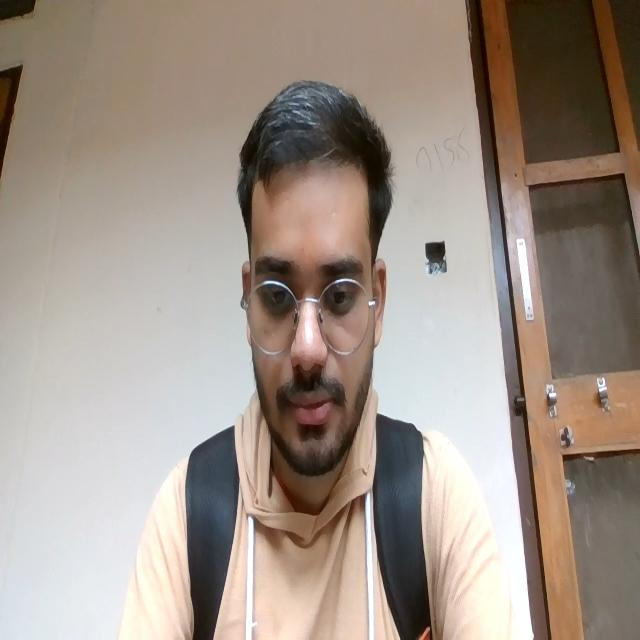drowsy: (250, 258, 371, 455)
